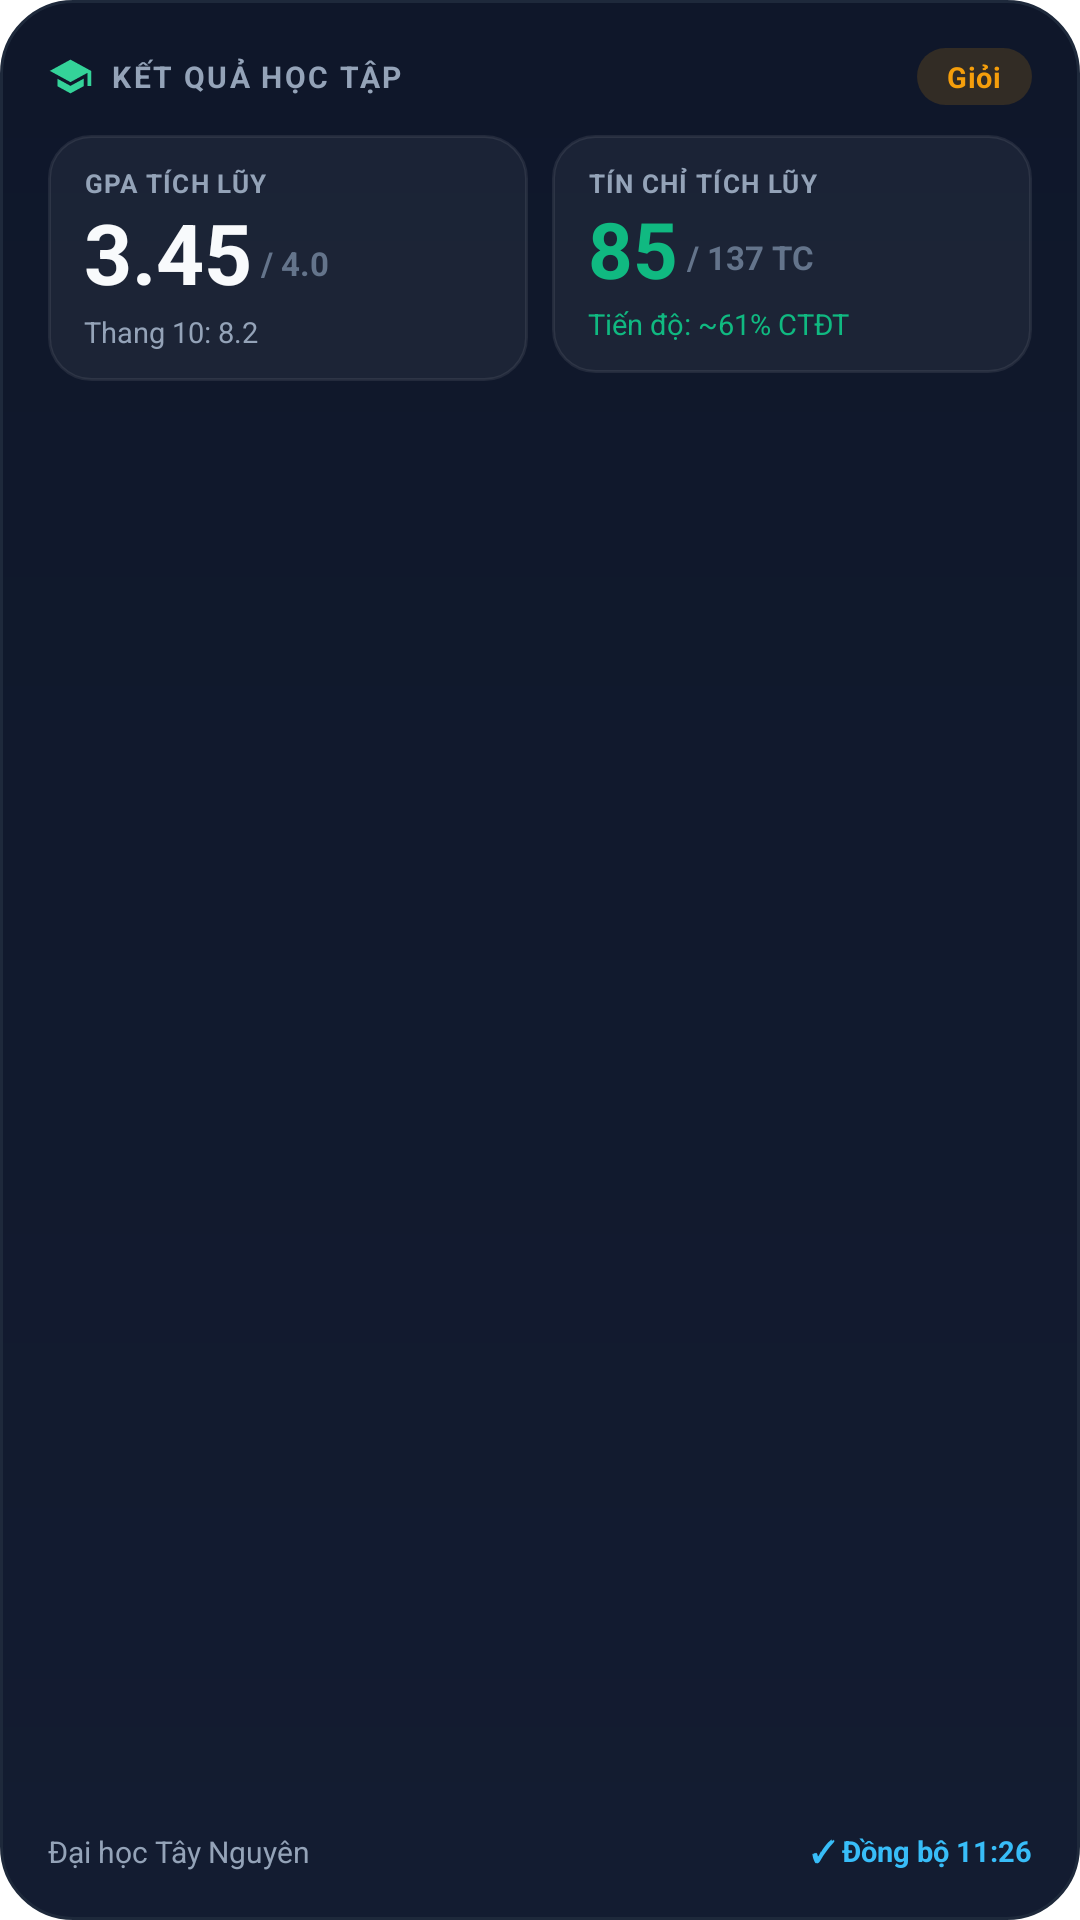

Where to tap for icons on this 1080 x 1920 app screen, as point (x, y):
Academic: point (71, 76)
